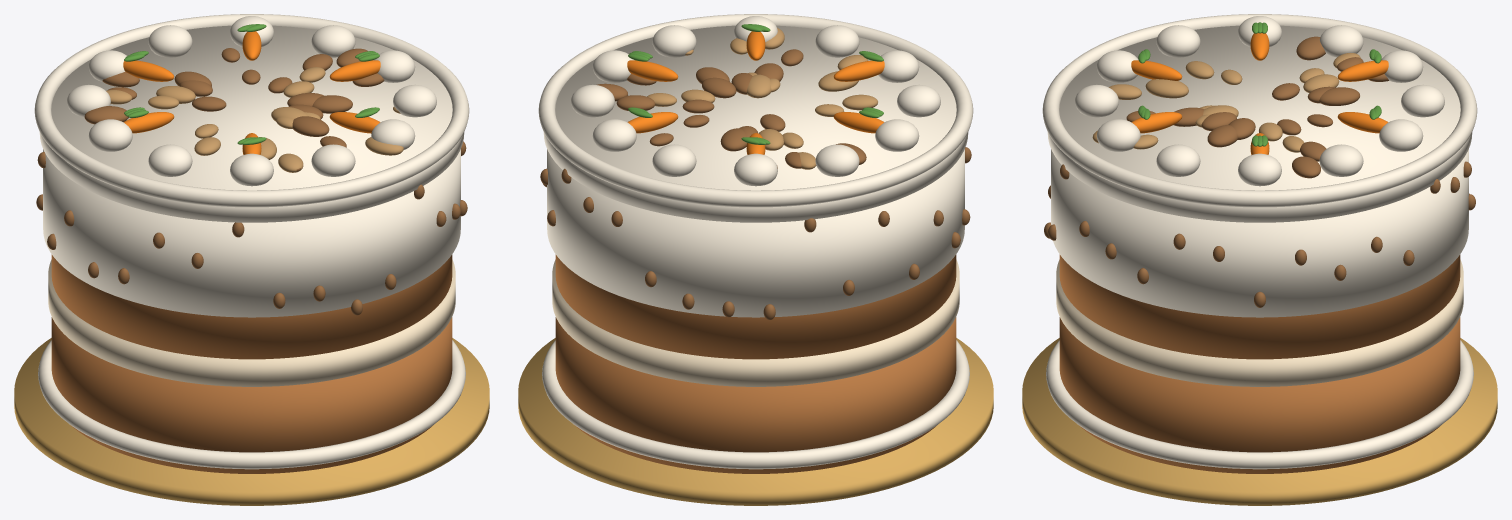
Rendered from Pastel-Zanahoria.glb.
3 views of the same model, side by side, from view 1: azimuth 30°, elevation 25°; view 2: azimuth 150°, elevation 25°; view 3: azimuth 270°, elevation 25° (orthographic).
Visible parts, largest first — view 1: Betun lateral de queso crema, Cubierta superior, Primera capa de zanahoria, Base de cartón dorado, Segunda capa de zanahoria, Decoracion superior, Relleno de queso crema, Decoracion inferior, Roseton de queso crema.007, Roseton de queso crema.009, Roseton de queso crema.003, Roseton de queso crema.008 (+15 smaller); view 2: Betun lateral de queso crema, Cubierta superior, Primera capa de zanahoria, Base de cartón dorado, Segunda capa de zanahoria, Decoracion superior, Relleno de queso crema, Decoracion inferior, Roseton de queso crema.003, Roseton de queso crema.005, Roseton de queso crema.009, Roseton de queso crema.004 (+13 smaller); view 3: Betun lateral de queso crema, Cubierta superior, Primera capa de zanahoria, Base de cartón dorado, Segunda capa de zanahoria, Decoracion superior, Relleno de queso crema, Decoracion inferior, Roseton de queso crema.001, Roseton de queso crema.011, Roseton de queso crema.007, Roseton de queso crema (+16 smaller).
Boxes of the visible parts, <box> form: Betun lateral de queso crema: <box>43,149,460,317</box>; Cubierta superior: <box>39,25,464,222</box>; Primera capa de zanahoria: <box>51,317,452,473</box>; Base de cartón dorado: <box>14,338,489,505</box>; Segunda capa de zanahoria: <box>51,254,452,359</box>; Decoracion superior: <box>34,14,469,207</box>; Relleno de queso crema: <box>48,259,455,386</box>; Decoracion inferior: <box>38,340,465,469</box>; Roseton de queso crema.007: <box>148,144,192,176</box>; Roseton de queso crema.009: <box>311,144,355,176</box>; Roseton de queso crema.003: <box>148,25,192,57</box>; Roseton de queso crema.008: <box>230,153,273,186</box>; Betun lateral de queso crema: <box>547,149,964,317</box>; Cubierta superior: <box>543,25,968,222</box>; Primera capa de zanahoria: <box>555,317,956,473</box>; Base de cartón dorado: <box>518,338,993,505</box>; Segunda capa de zanahoria: <box>555,254,956,359</box>; Decoracion superior: <box>538,14,973,207</box>; Relleno de queso crema: <box>552,259,959,386</box>; Decoracion inferior: <box>542,340,969,469</box>; Roseton de queso crema.003: <box>652,144,696,176</box>; Roseton de queso crema.005: <box>815,144,859,176</box>; Roseton de queso crema.009: <box>815,25,859,57</box>; Roseton de queso crema.004: <box>734,153,777,186</box>; Betun lateral de queso crema: <box>1051,149,1468,317</box>; Cubierta superior: <box>1047,25,1472,222</box>; Primera capa de zanahoria: <box>1059,317,1460,473</box>; Base de cartón dorado: <box>1022,338,1497,505</box>; Segunda capa de zanahoria: <box>1059,254,1460,359</box>; Decoracion superior: <box>1042,14,1477,207</box>; Relleno de queso crema: <box>1056,259,1463,386</box>; Decoracion inferior: <box>1046,340,1473,469</box>; Roseton de queso crema.001: <box>1319,144,1363,176</box>; Roseton de queso crema.011: <box>1156,144,1200,176</box>; Roseton de queso crema.007: <box>1156,25,1200,57</box>; Roseton de queso crema: <box>1238,153,1281,186</box>.
Size of the model in its own units: 1.4 by 1.05 by 1.4.
